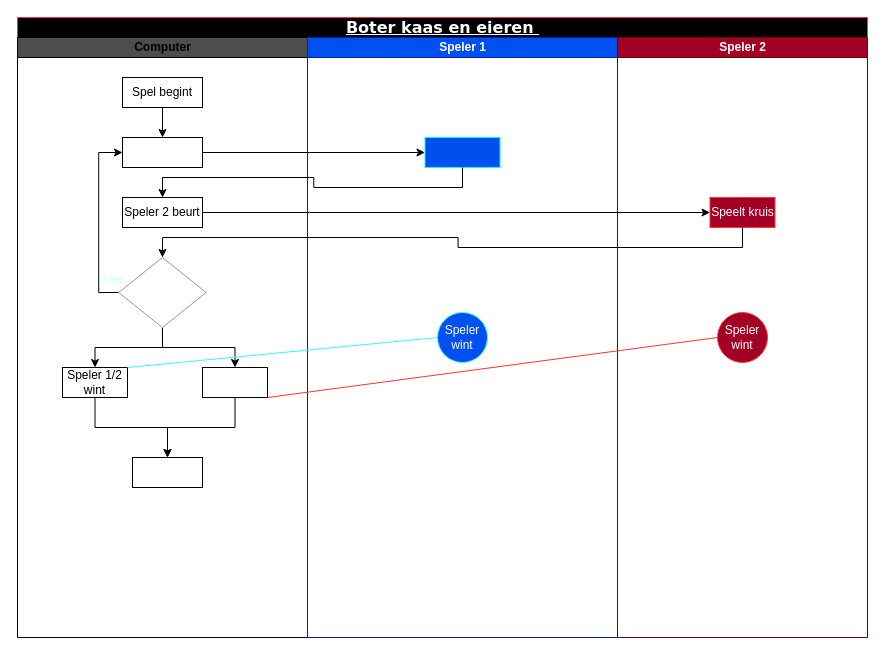
Image size: 885x655. Some labels were removed from this diagram. The box of each missing label's shape, as (x1, y1, x2, y2) in pixels:
Heeft een speler gewonnen?: (118, 256, 206, 328)
Speelt cirkel: (424, 136, 500, 168)
Spel beëindigd: (132, 456, 202, 488)
Speler 1 beurt: (122, 136, 202, 168)
Speler 1/2 verliest: (202, 366, 268, 398)
